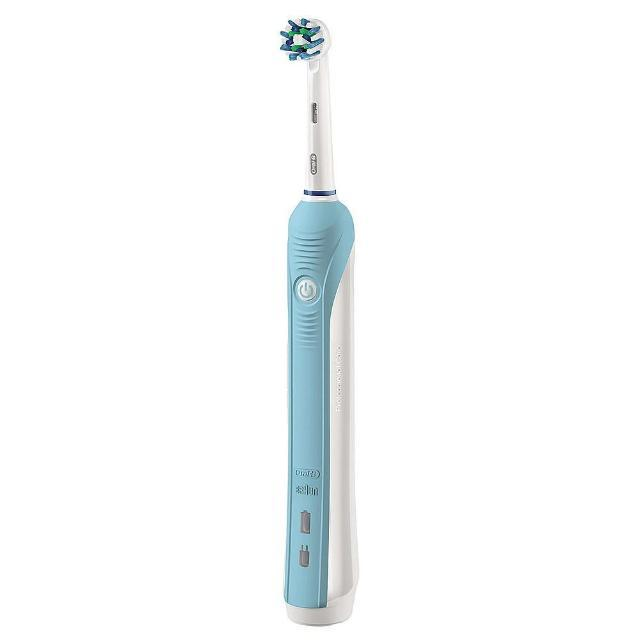toothbrush: (250, 0, 376, 632)
